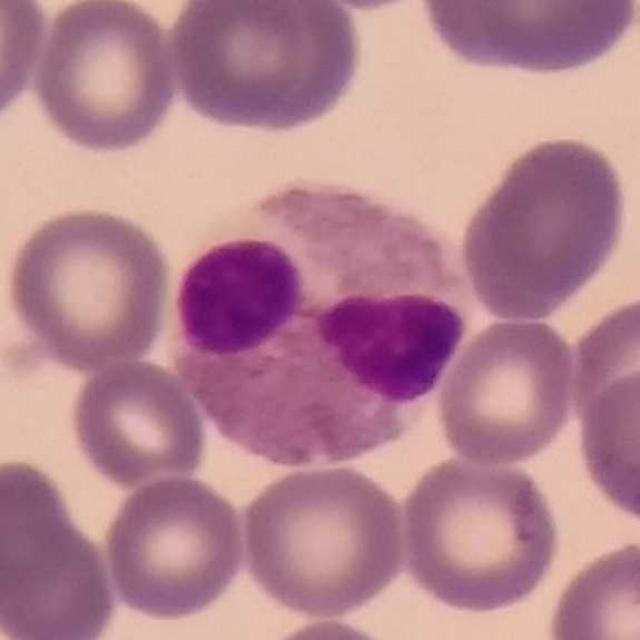RBC: (167, 182, 460, 476), (456, 130, 634, 323), (1, 201, 176, 374), (395, 450, 566, 618), (237, 460, 410, 622), (28, 0, 181, 158), (433, 312, 580, 468), (100, 472, 249, 623), (214, 1, 372, 134), (164, 0, 315, 134), (65, 355, 212, 491), (0, 508, 121, 640), (406, 2, 588, 73), (480, 0, 639, 81), (0, 453, 80, 606), (564, 288, 640, 445), (572, 364, 640, 530), (542, 536, 640, 640), (0, 0, 52, 132), (253, 614, 409, 640)
